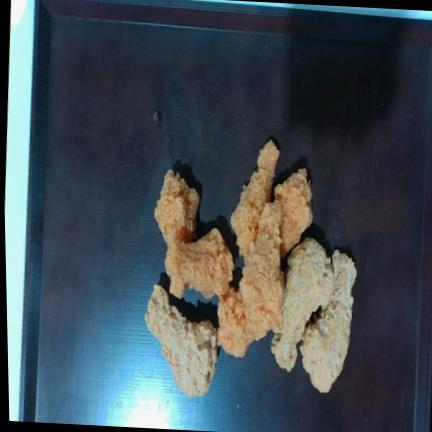chicken: (271, 238, 334, 371), (145, 284, 217, 397), (300, 250, 356, 392), (238, 201, 284, 340), (231, 140, 279, 258), (165, 228, 234, 298), (154, 170, 199, 249), (275, 169, 312, 257), (218, 286, 254, 357), (166, 267, 186, 298)
